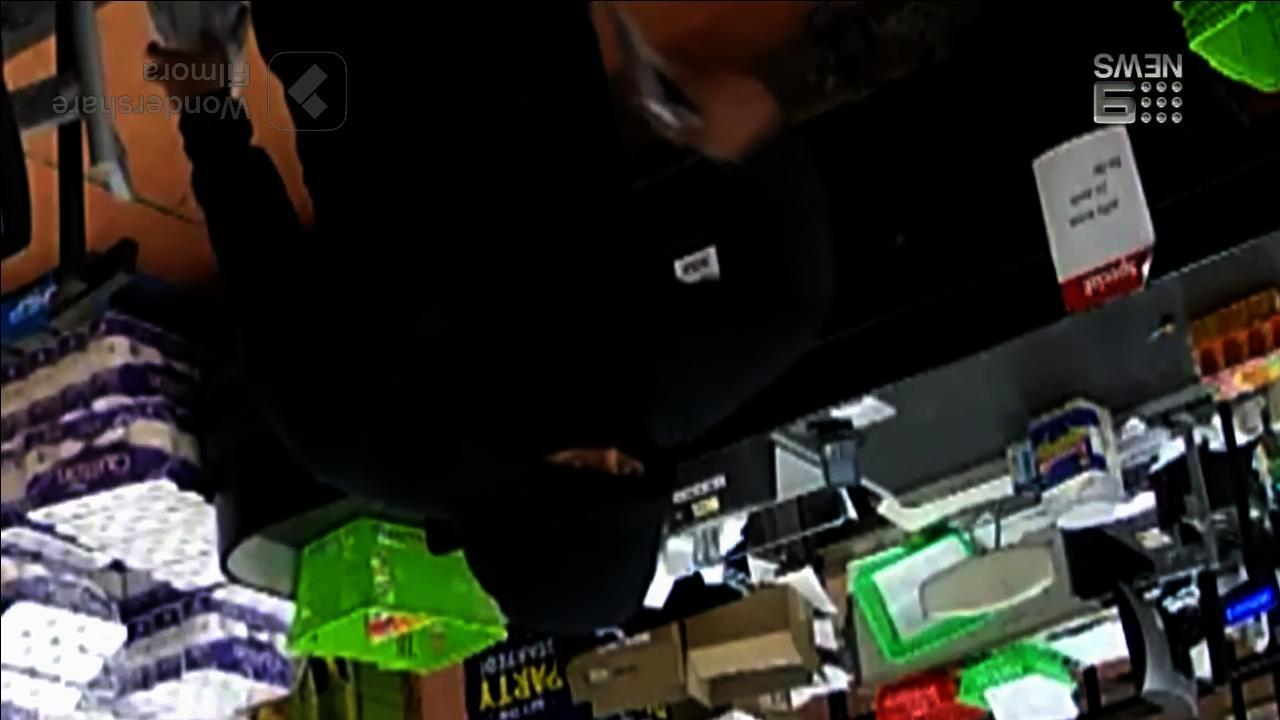gun: (596, 0, 700, 149)
